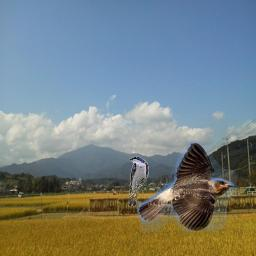Swallow: (137, 141, 237, 232), (127, 156, 149, 207)
